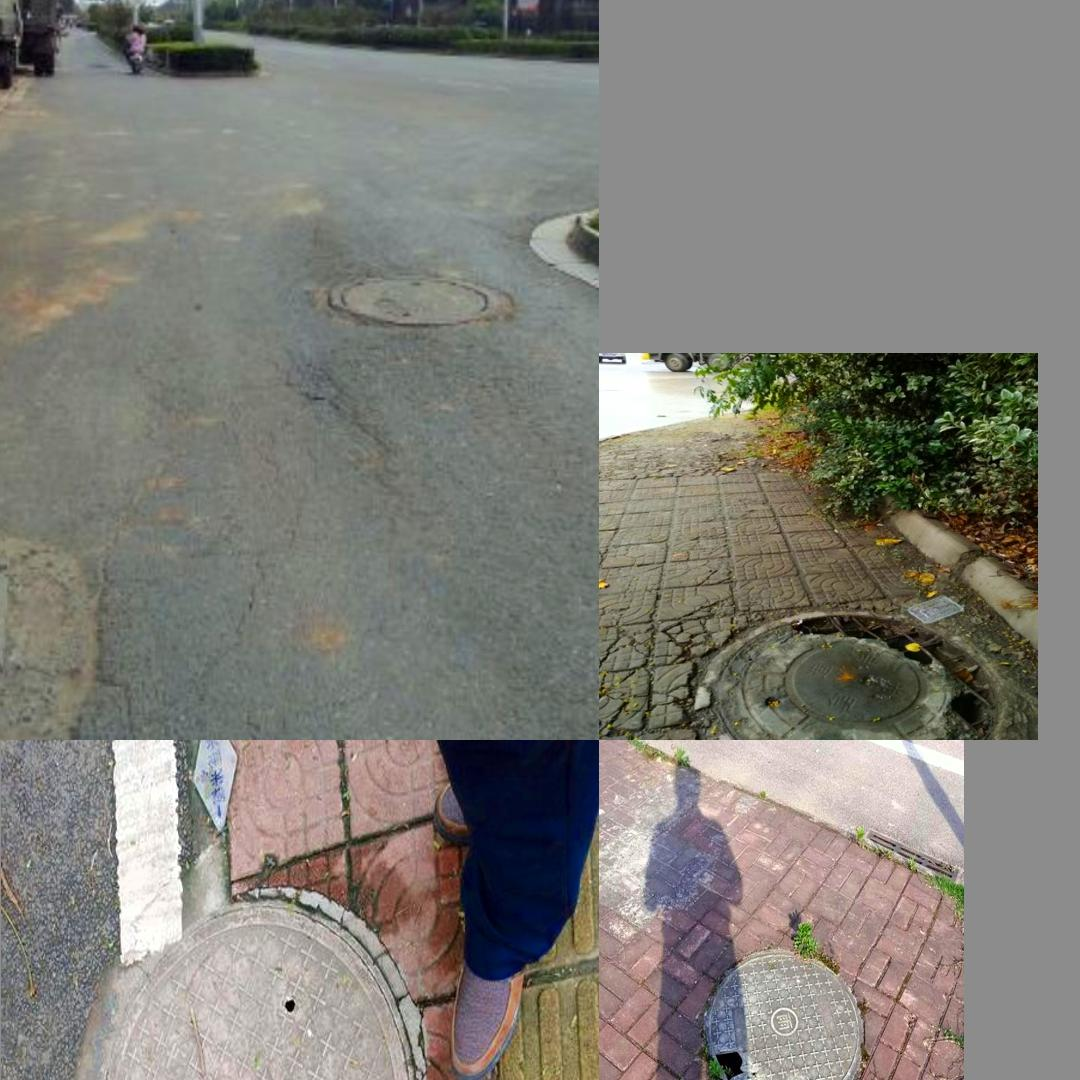broke: (64, 877, 431, 1080), (687, 609, 1002, 740), (693, 935, 872, 1080), (0, 538, 12, 708)
